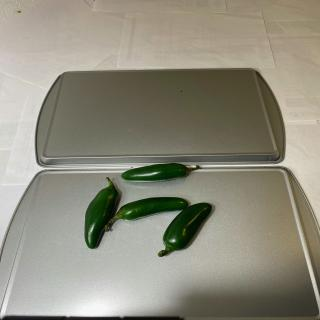Chilli: (103, 196, 189, 232), (120, 162, 200, 182)
Tomato: (158, 202, 212, 257), (84, 177, 119, 249)
